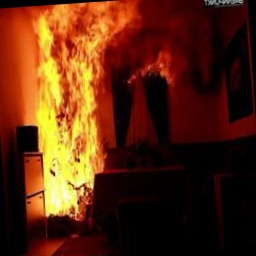fire: (3, 0, 155, 221)
